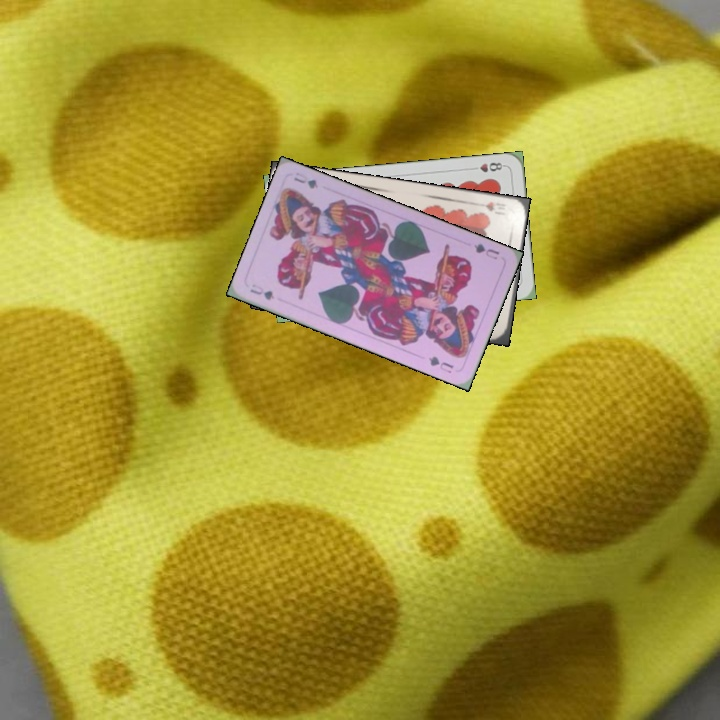GU: (470, 239, 502, 262), (246, 280, 277, 303)
H10: (481, 197, 509, 217)
H8: (467, 158, 507, 175)
